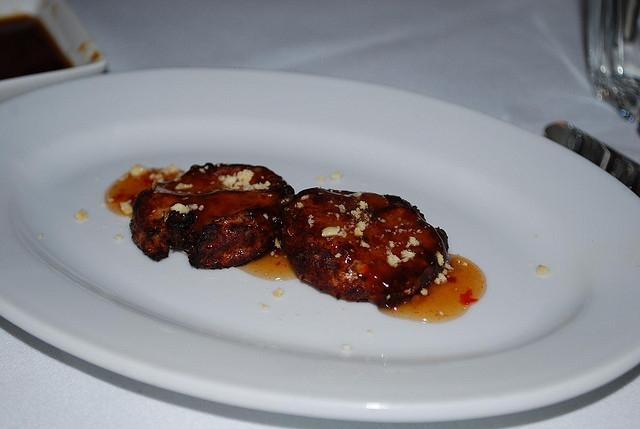garlic: (218, 172, 239, 190), (386, 246, 402, 268), (237, 169, 254, 182), (170, 203, 190, 214), (130, 164, 148, 176), (120, 199, 133, 215), (401, 249, 417, 262), (322, 226, 341, 236), (76, 209, 88, 221), (350, 208, 362, 220), (175, 182, 193, 190), (434, 273, 447, 284), (272, 287, 283, 298), (536, 264, 548, 274), (329, 172, 342, 180), (410, 237, 420, 246), (186, 204, 198, 210)
